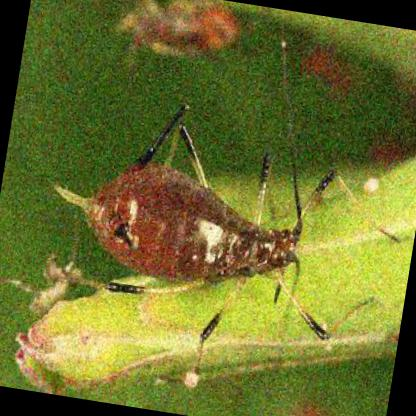uroleucon compositae: (55, 106, 337, 339)
